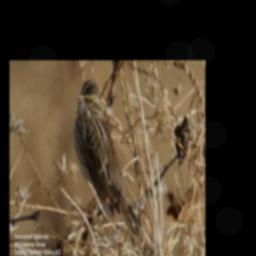Sparrow: (72, 77, 141, 250)
